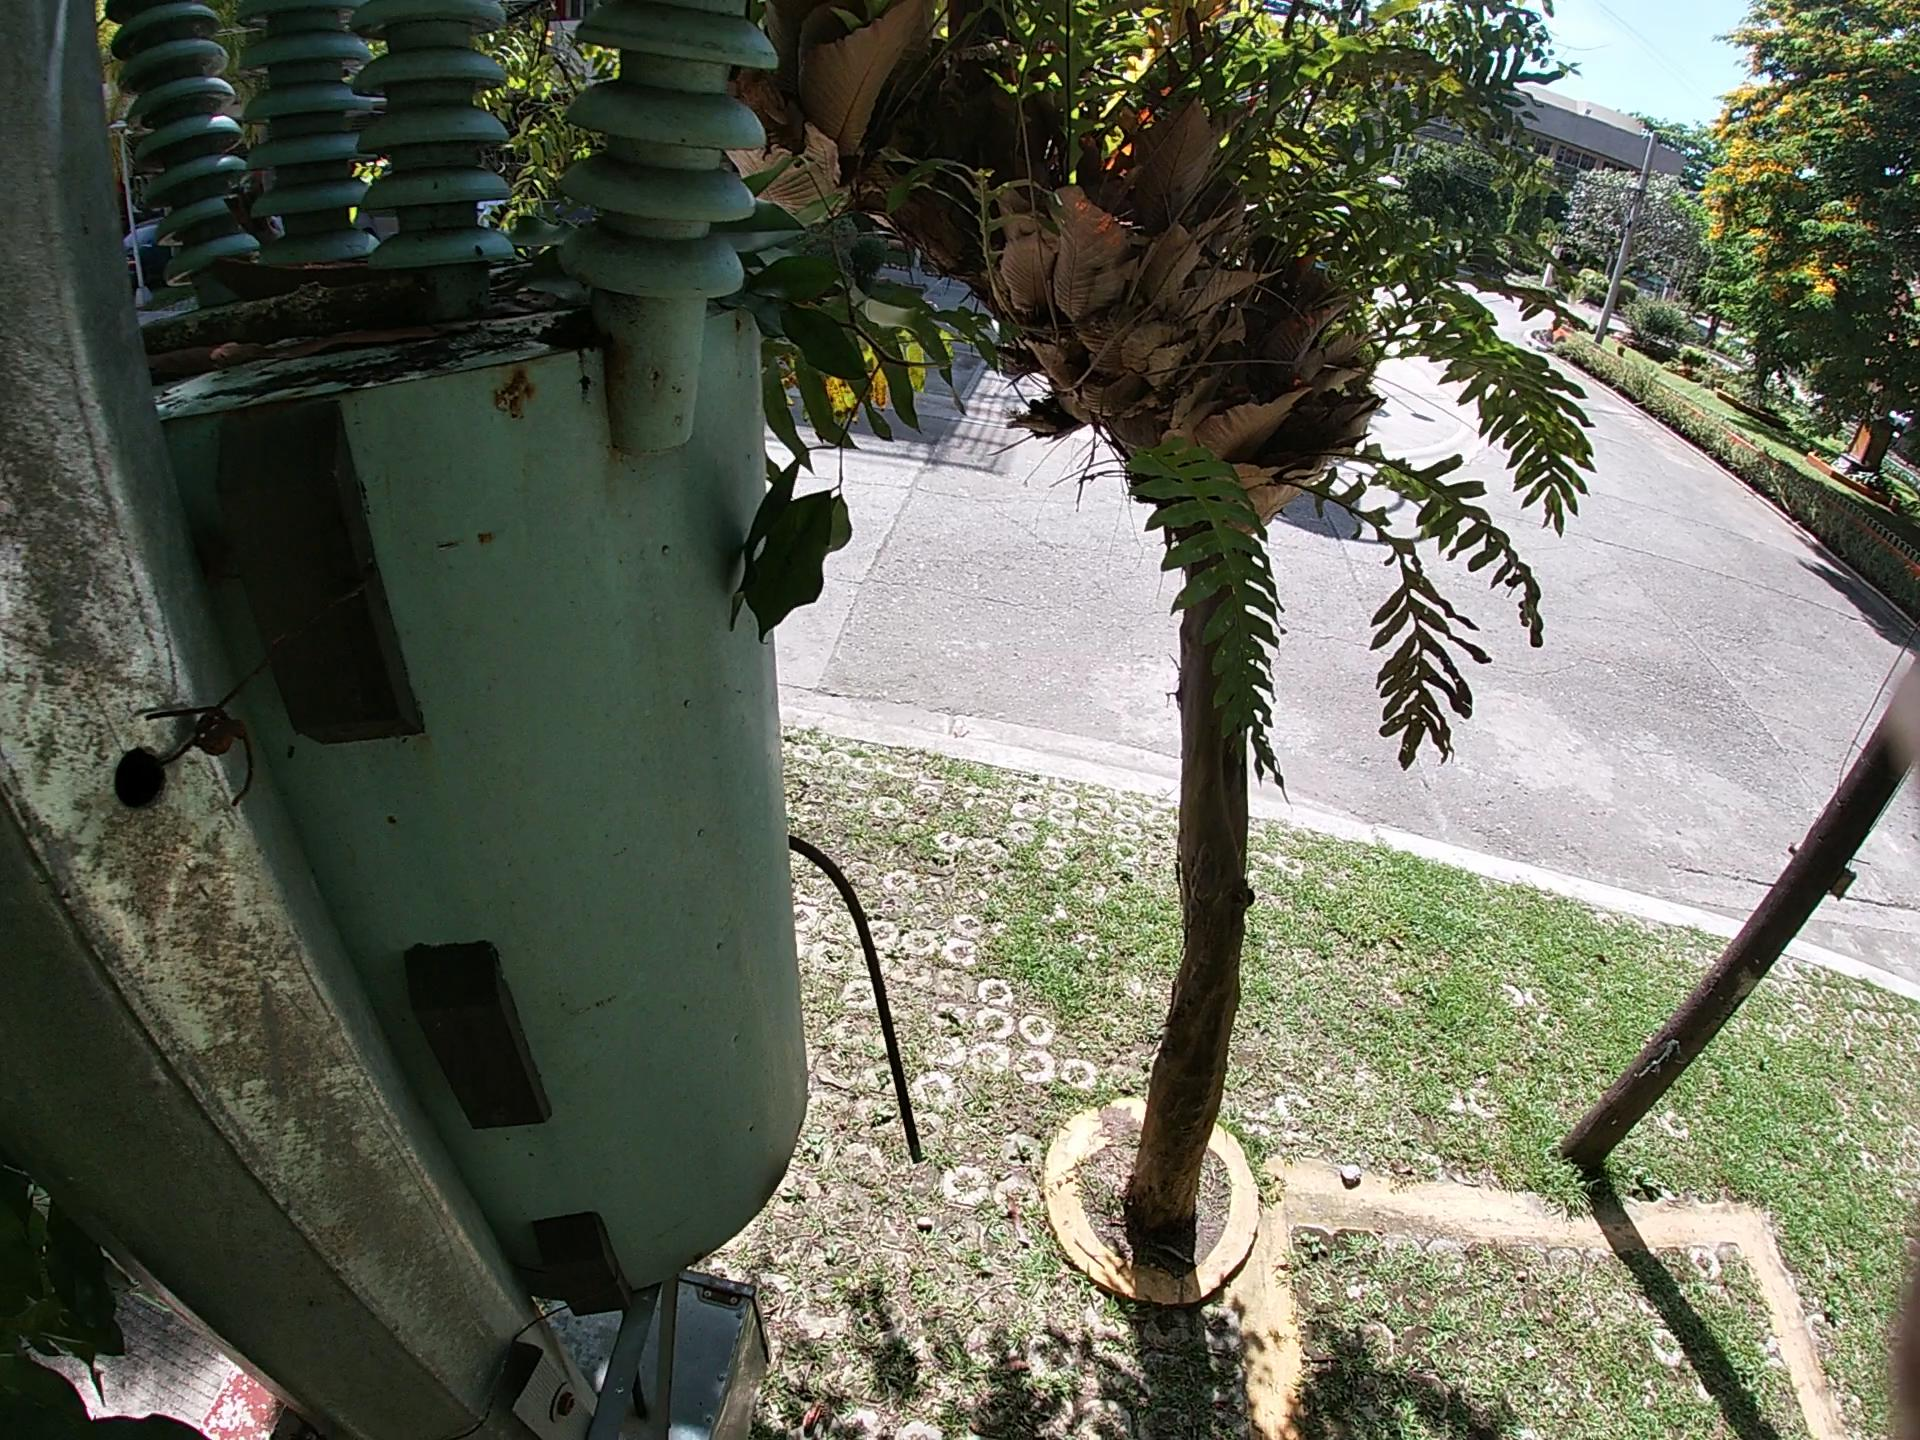branch with leaves: (735, 156, 913, 661)
leaf: (506, 180, 593, 319), (157, 333, 355, 365)
mahogany fruit: (206, 251, 386, 293)
tree branch: (135, 301, 351, 327)
